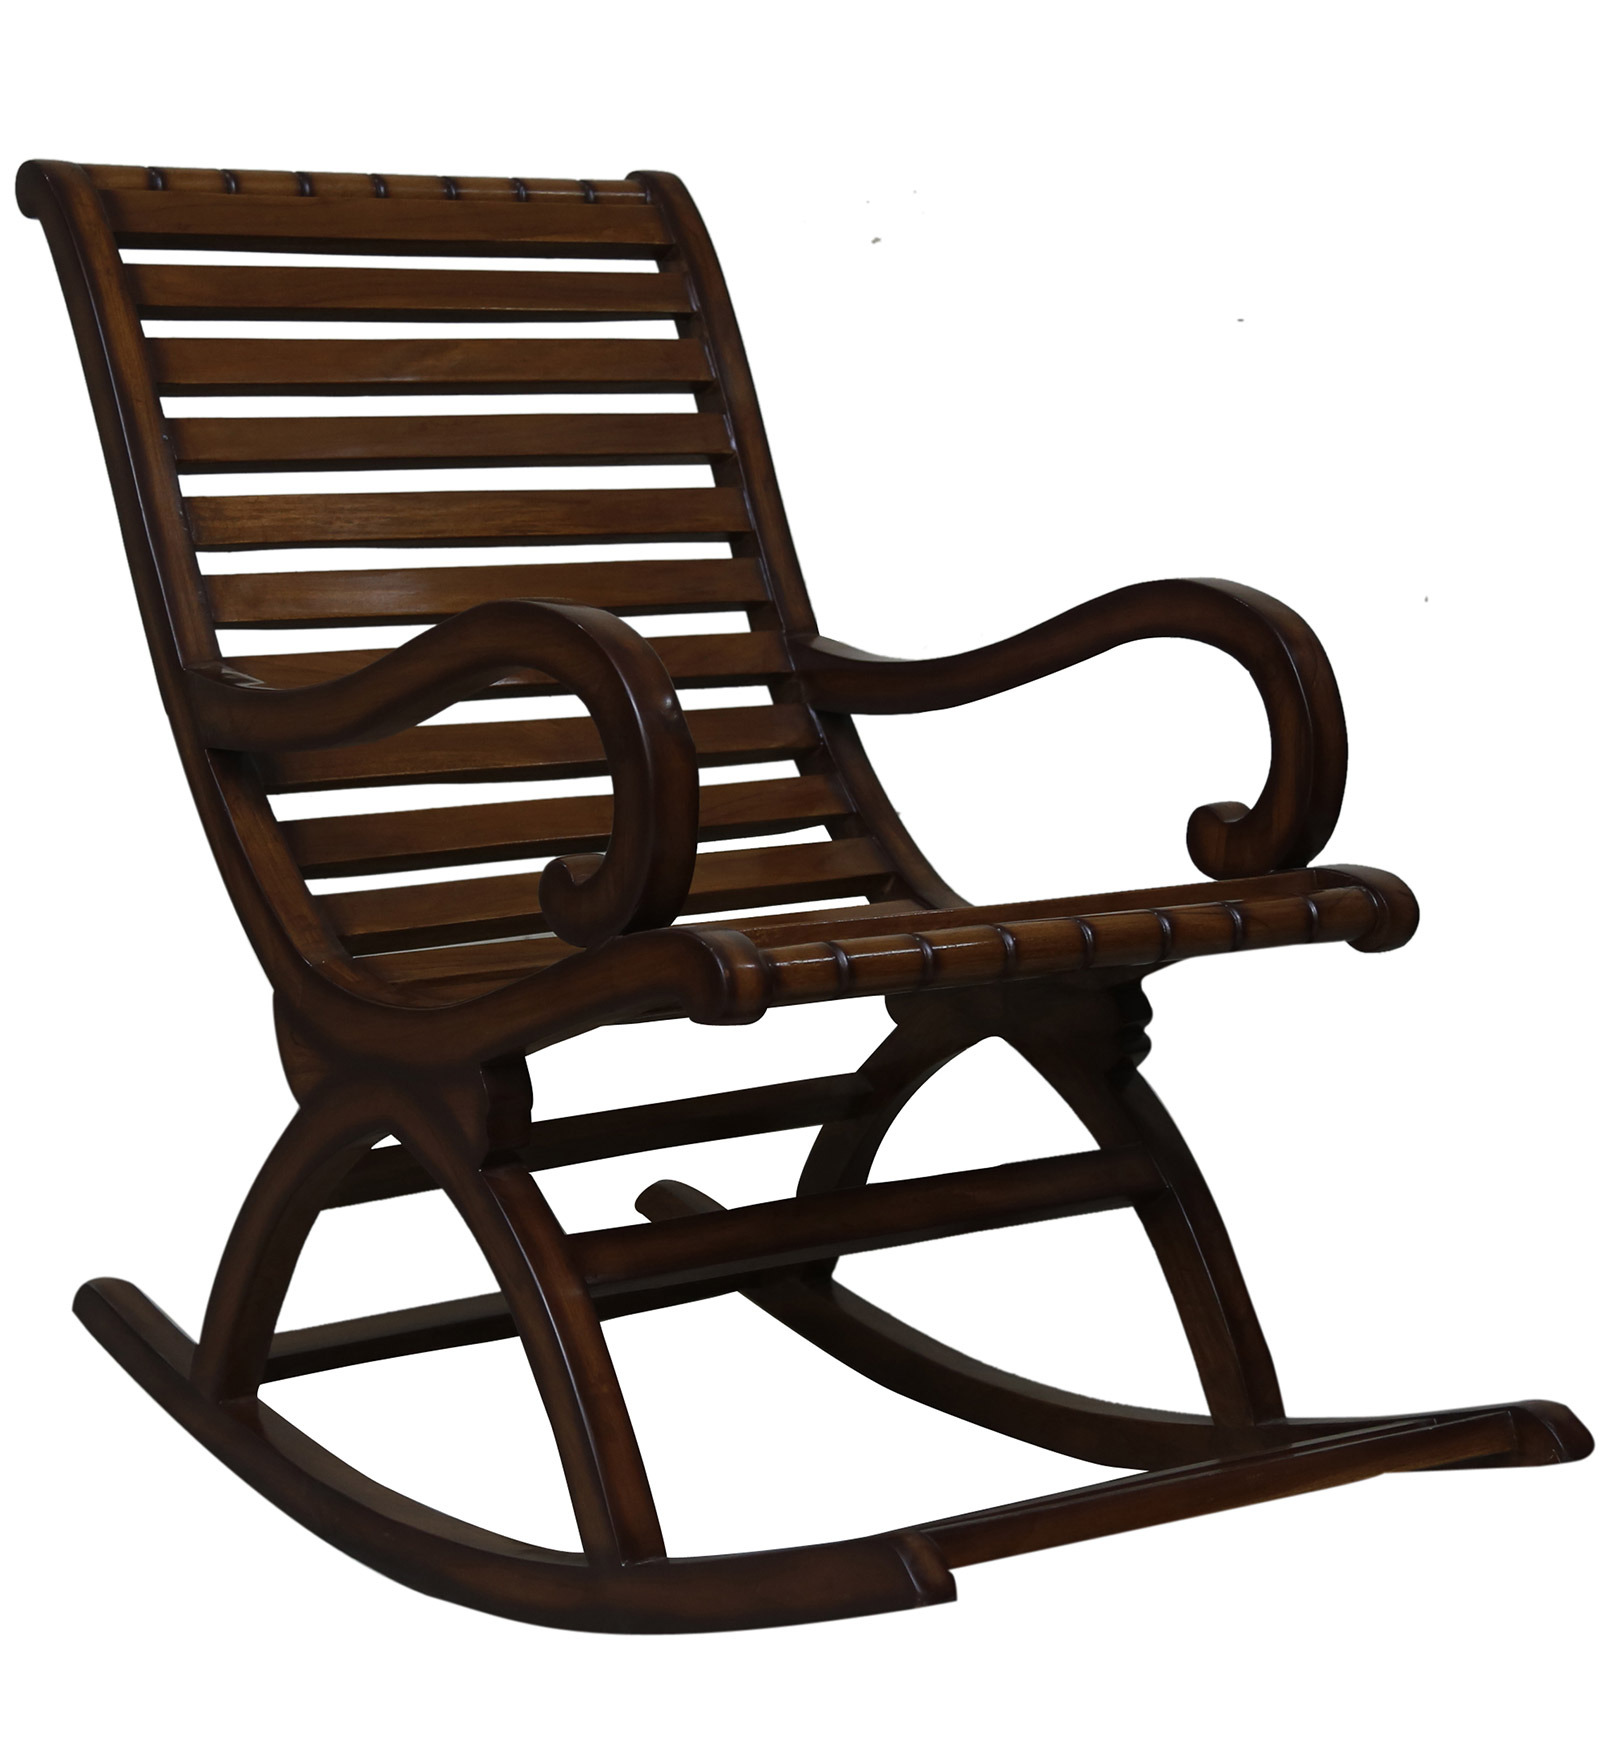Rocking Chair in Teak Colour by RVF: (11, 129, 1600, 1682)
